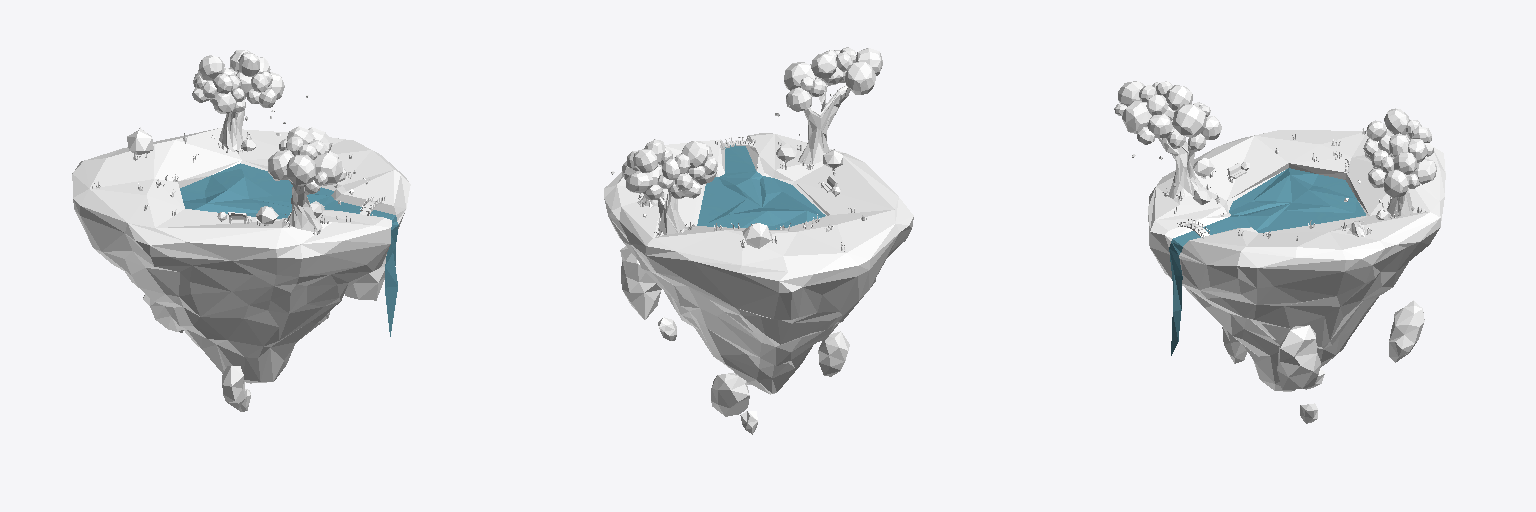
3 renders of one model, left to right at view 1: azimuth 30°, elevation 25°; view 2: azimuth 150°, elevation 25°; view 3: azimuth 270°, elevation 25°, orthographic.
Visible parts, largest first — view 1: obj48, obj49, obj19, obj142, obj143, obj18, obj20, obj14, obj16; view 2: obj48, obj49, obj142, obj19, obj141, obj143, obj20, obj16, obj15, obj147; view 3: obj48, obj49, obj142, obj141, obj19, obj15, obj14, obj32.
Boxes of the visible parts, x1,y1,x2,y2 form: obj48: [72, 128, 410, 383]; obj49: [180, 163, 398, 336]; obj19: [286, 179, 322, 232]; obj142: [345, 255, 386, 300]; obj143: [222, 366, 245, 409]; obj18: [286, 154, 315, 185]; obj20: [219, 98, 244, 151]; obj14: [313, 153, 342, 185]; obj16: [268, 150, 293, 180]; obj48: [604, 133, 913, 394]; obj49: [697, 144, 825, 229]; obj142: [620, 246, 661, 319]; obj19: [798, 85, 850, 164]; obj141: [711, 373, 749, 416]; obj143: [818, 331, 849, 376]; obj20: [658, 188, 686, 234]; obj16: [845, 62, 875, 94]; obj15: [784, 62, 815, 90]; obj147: [742, 223, 771, 248]; obj48: [1148, 130, 1445, 391]; obj49: [1169, 168, 1365, 355]; obj142: [1277, 325, 1320, 389]; obj141: [1389, 300, 1424, 362]; obj19: [1158, 120, 1202, 198]; obj15: [1172, 103, 1206, 137]; obj14: [1122, 101, 1151, 133]; obj32: [1383, 170, 1408, 197].
Bounding box in the file's own units: 845 × 971 × 873.
2 materials, 1 textured.